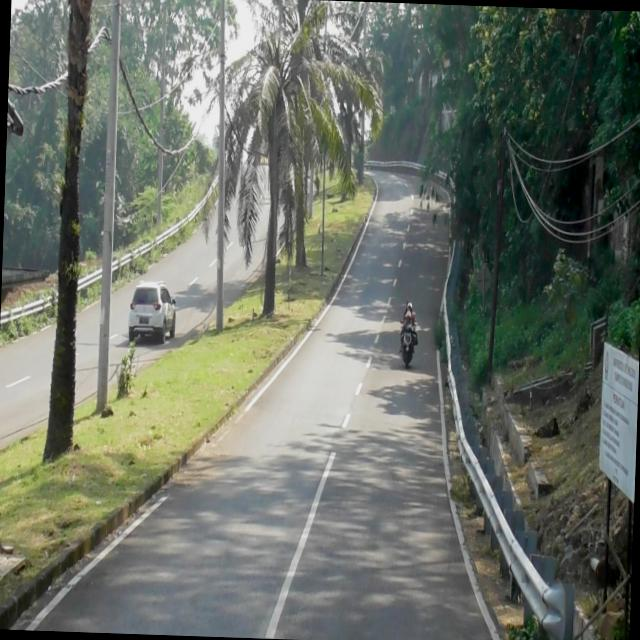motorcycle: (398, 318, 417, 368)
person: (400, 303, 414, 334), (401, 312, 413, 338), (403, 299, 416, 321)
rider_region: (395, 296, 419, 371)
